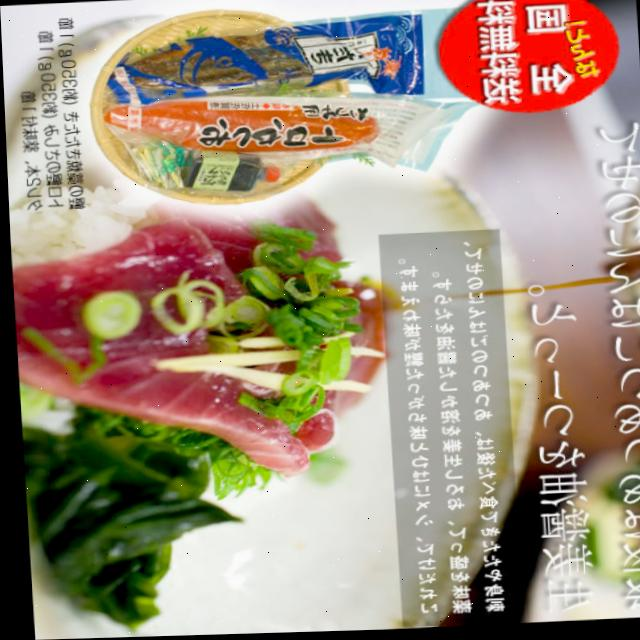熟制海鲜: (5, 148, 425, 500)
